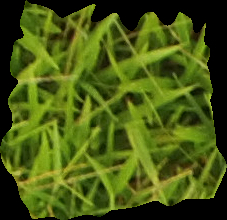grass: (1, 1, 226, 218)
